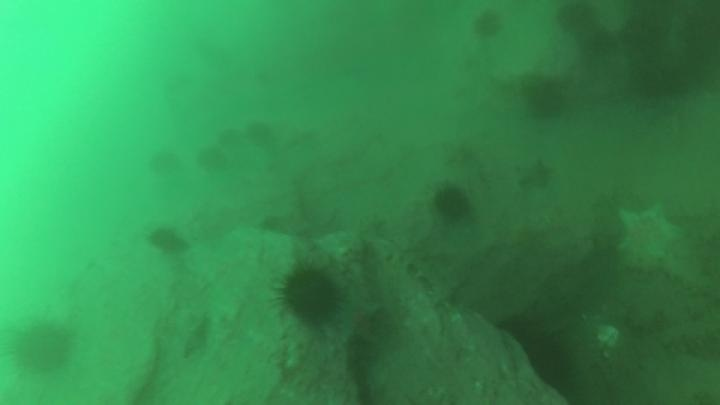echinus: (497, 315, 579, 396), (275, 262, 344, 328), (9, 316, 77, 376), (630, 54, 690, 101), (521, 76, 569, 123), (431, 183, 473, 223), (553, 2, 600, 36), (146, 224, 191, 257), (470, 8, 506, 42), (147, 147, 183, 179), (195, 144, 230, 174), (244, 118, 276, 147), (214, 120, 246, 149)
holothurian: (368, 234, 460, 308)
starfish: (613, 201, 684, 269), (333, 289, 384, 344), (513, 157, 557, 194)
